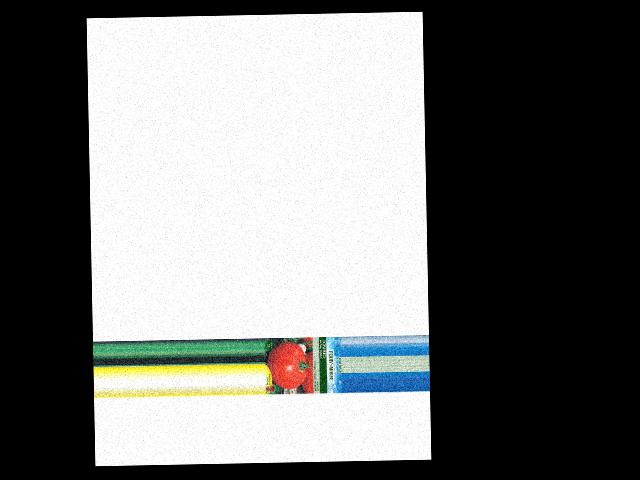tomato: (266, 341, 306, 389)
